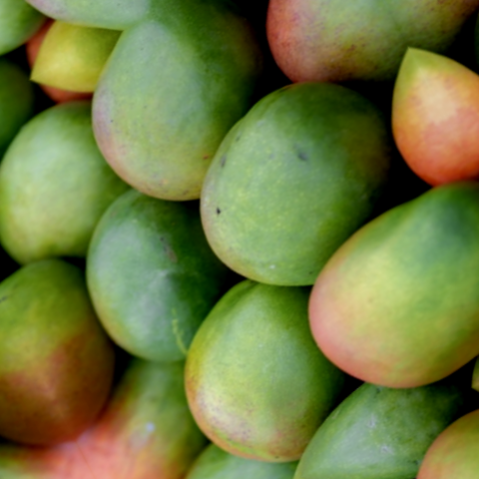mango: (149, 40, 446, 337), (39, 0, 334, 239), (264, 150, 479, 439), (26, 156, 263, 406)
